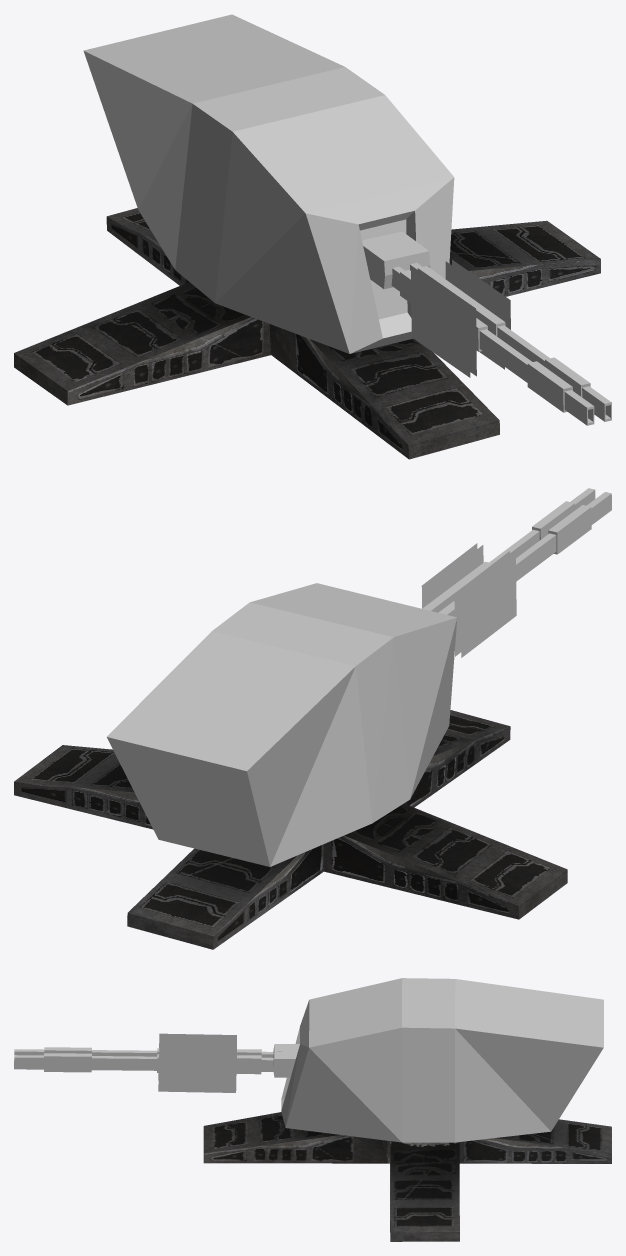
The model's file is anti_armoured_car_lod2.dae.
The picture shows the model from 3 angles, top to bottom: view 1: azimuth 30°, elevation 25°; view 2: azimuth 150°, elevation 25°; view 3: azimuth 270°, elevation 25°; orthographic projection. The views are drawn at different scales.
Parts seen in each view (by area): view 1: Mesh_Object_2, Mesh_Object, Mesh_Object_3; view 2: Mesh_Object_2, Mesh_Object, Mesh_Object_3; view 3: Mesh_Object_2, Mesh_Object, Mesh_Object_3.
Part boxes in pixels (x1,y1,x2,y2): Mesh_Object_2: (83, 14, 454, 353); Mesh_Object: (14, 208, 600, 459); Mesh_Object_3: (362, 231, 611, 425); Mesh_Object_2: (107, 583, 457, 866); Mesh_Object: (14, 710, 567, 949); Mesh_Object_3: (421, 488, 611, 657); Mesh_Object_2: (281, 978, 603, 1142); Mesh_Object: (203, 1112, 611, 1241); Mesh_Object_3: (14, 1033, 299, 1092).
Size of the model in its own units: 1.87 by 0.751 by 2.73.
